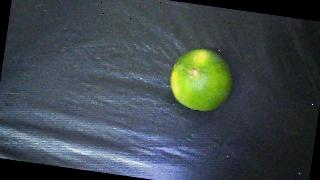LOCAL: (166, 45, 236, 115)
